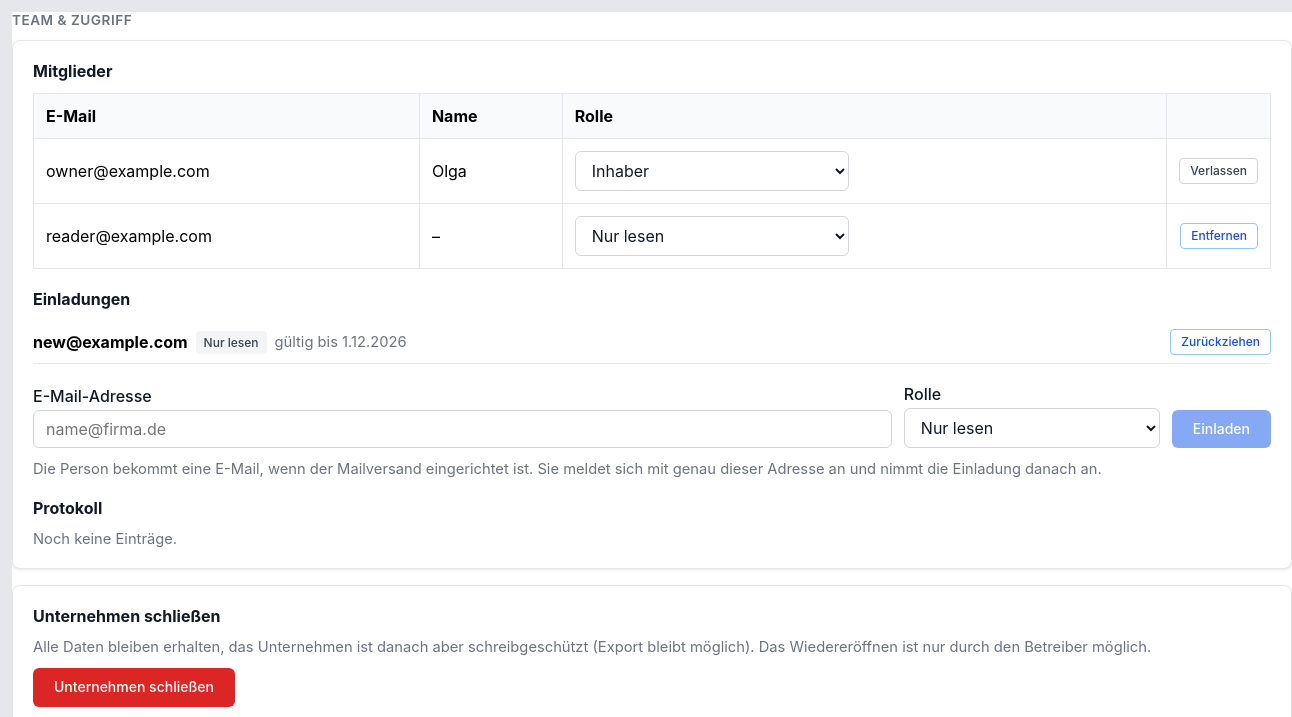
Test: TeamSettings as an owner › shows the message of the backend when something is refused
This screenshot has width=1292, height=717.
Select "Nur lesen" in the dropdown named "Rolle von owner@example.com" at x=712, y=171, box x1=575 y1=151 x2=849 y2=191
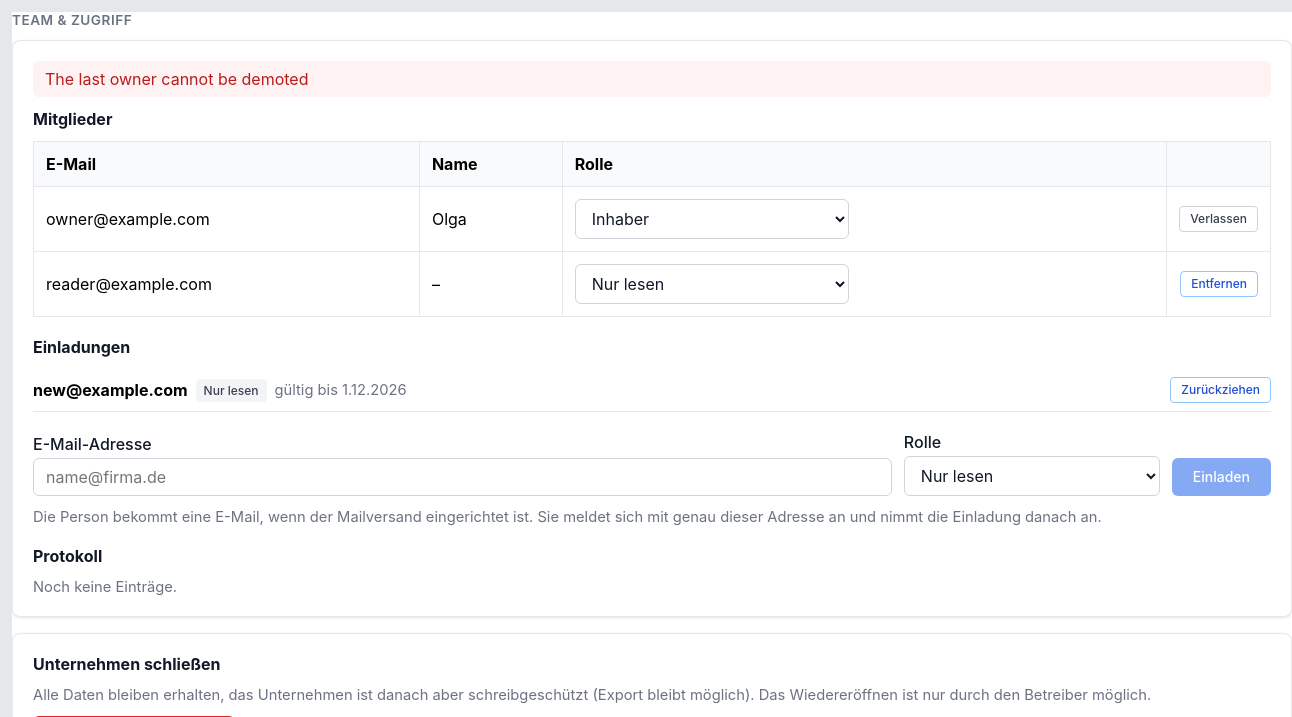
Expected: the message "The last owner cannot be demoted" is shown, x1=33 y1=61 x2=1271 y2=97
